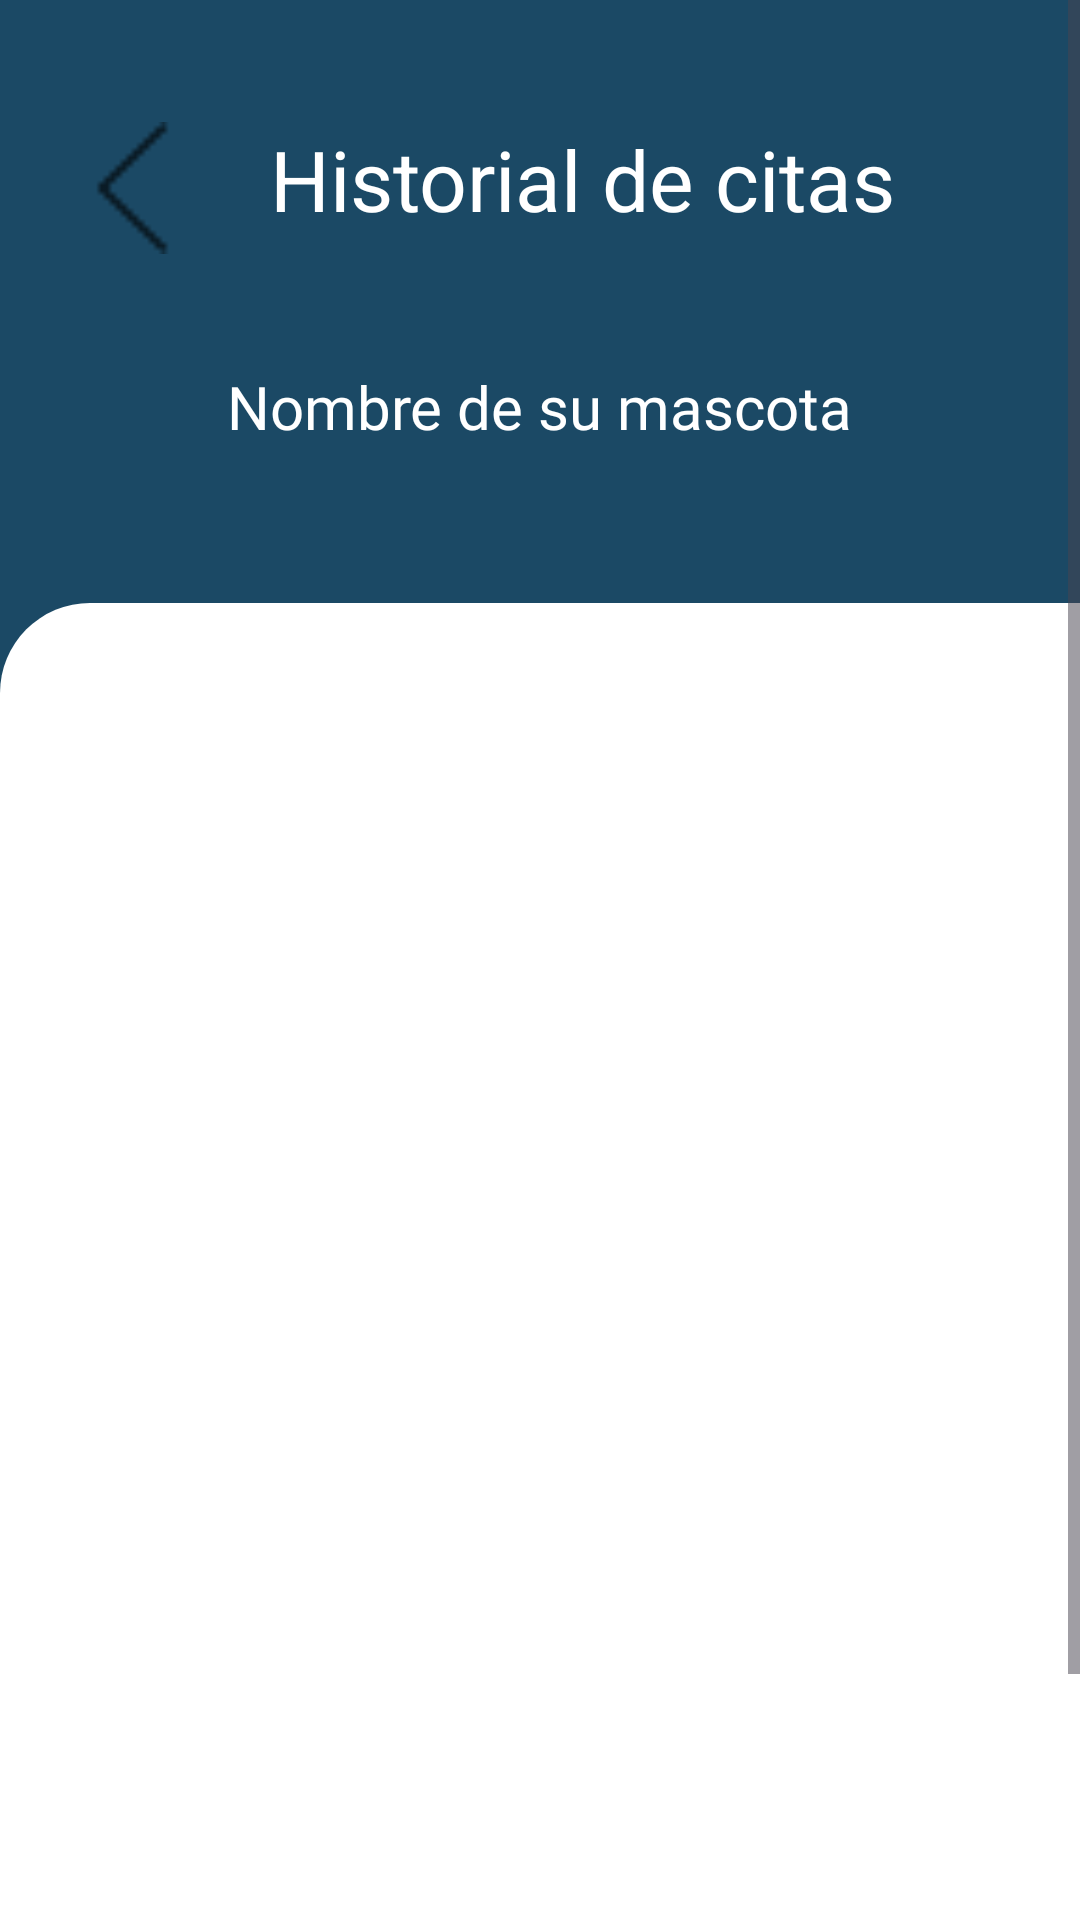

Locate icon controls on the screen. Image size 1080w x 1920h, boxes as (x1, y1, x2, y2).
flecha: (98, 122, 167, 254)
